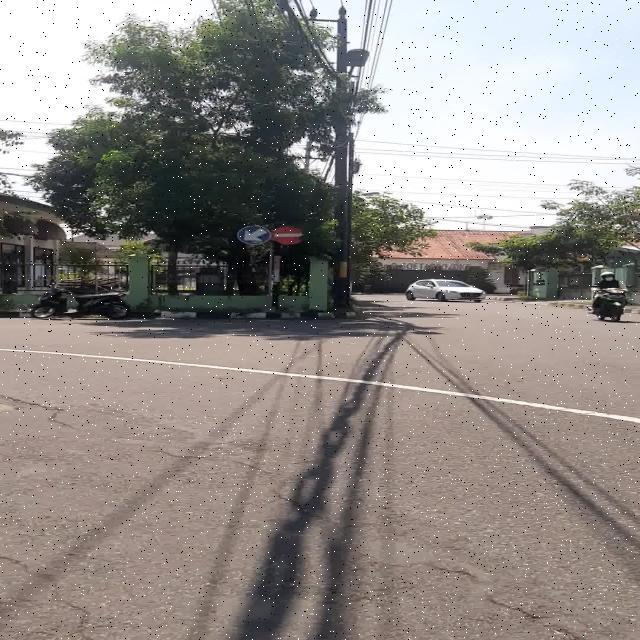Lajur Kiri: (236, 226, 272, 245)
